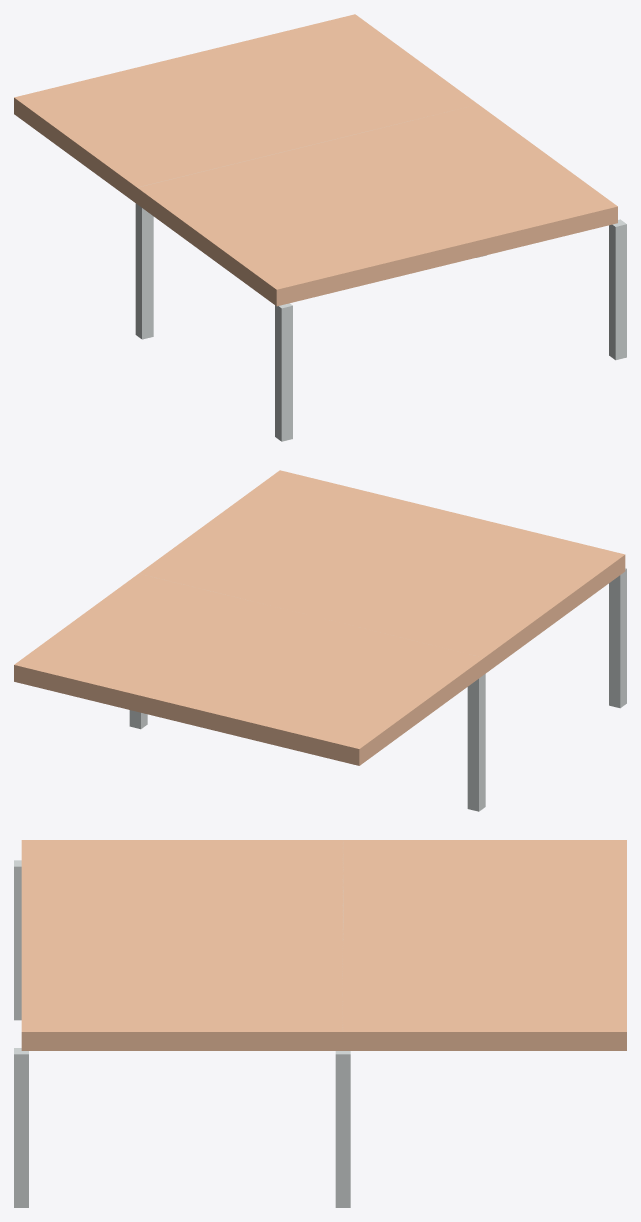
File: desk-row-d3.glb
3 renders of one model, top to bottom at view 1: azimuth 30°, elevation 25°; view 2: azimuth 150°, elevation 25°; view 3: azimuth 270°, elevation 25°, orthographic. The views are drawn at different scales.
Visible parts, largest first — view 1: desktop, shared-corner-leg (×3); view 2: desktop, shared-corner-leg (×2); view 3: desktop, shared-corner-leg (×3).
Boxes of the visible parts, left/top/right/bottom form: desktop: left=14, top=14, right=617, bottom=306; shared-corner-leg (×3): left=135, top=203, right=626, bottom=441; desktop: left=14, top=470, right=625, bottom=765; shared-corner-leg (×2): left=467, top=568, right=626, bottom=811; desktop: left=21, top=840, right=626, bottom=1050; shared-corner-leg (×3): left=14, top=860, right=350, bottom=1207.
Size of the model in its own units: 3.05 by 1.26 by 4.05.
Materials: 1 (1 with a texture image).
